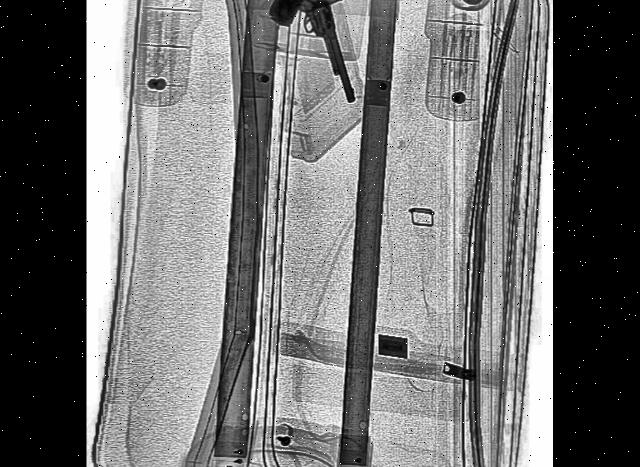Gun: (284, 0, 358, 124), (267, 0, 345, 50)
Knife: (296, 0, 471, 29)
